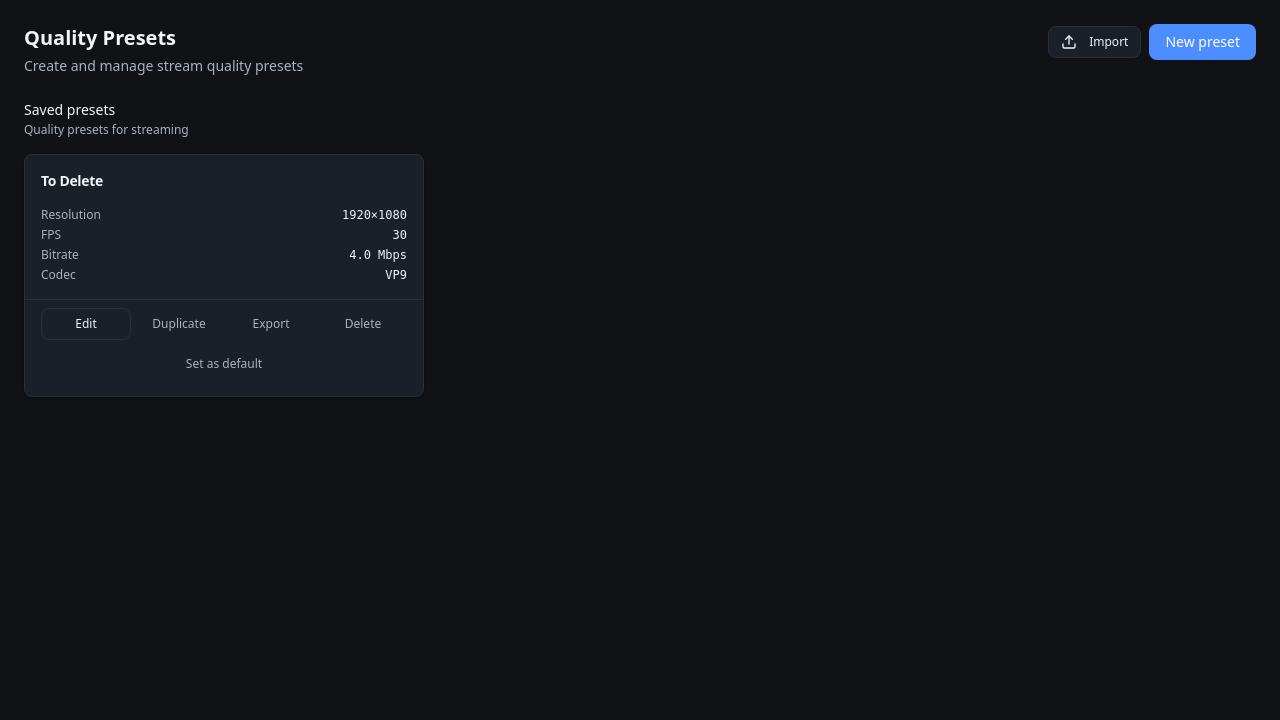
Test: QualityPresetsPage interactions › cancels delete and closes dialog
Check: the text "To Delete" is shown, box [41,171,103,191]
# Click Delete
Click the button "Delete". click: coordinates (363, 324)
box: [319,308,407,340]
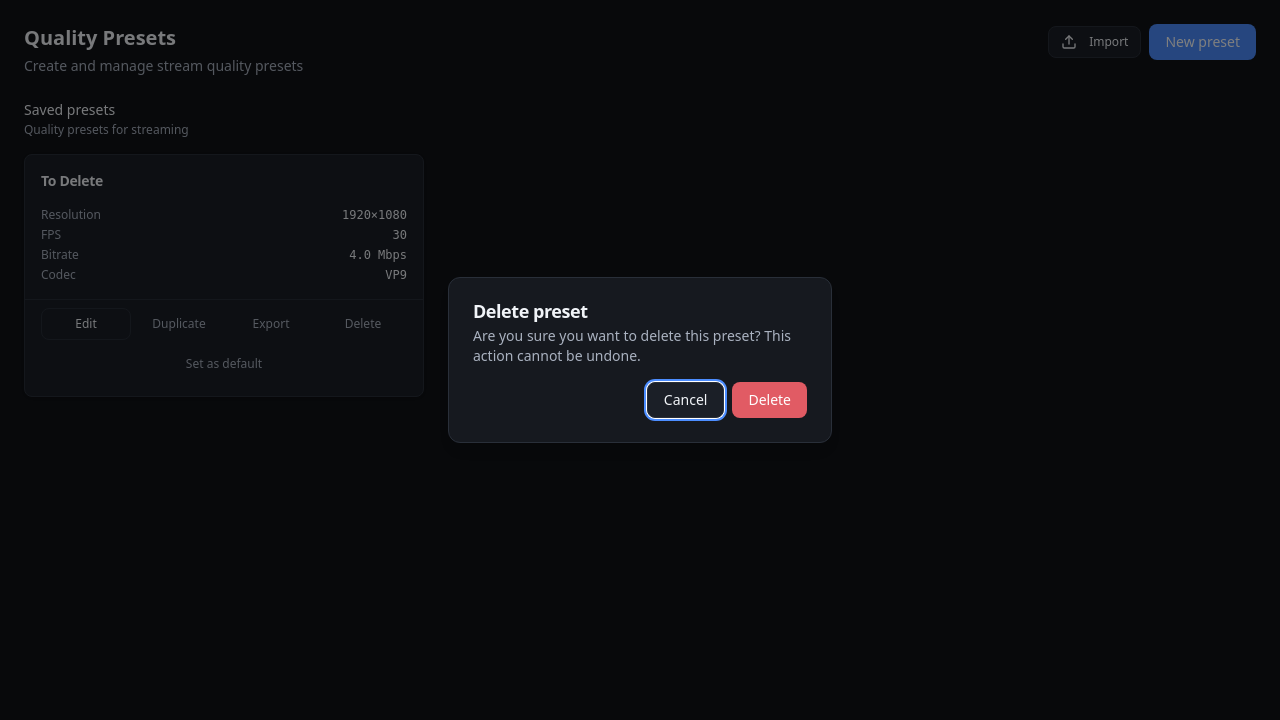
Check: the text "Are you sure" is shown, box [473,326,791,365]
Click the button "Cancel". click: coordinates (686, 400)
box: [647,382,724,418]
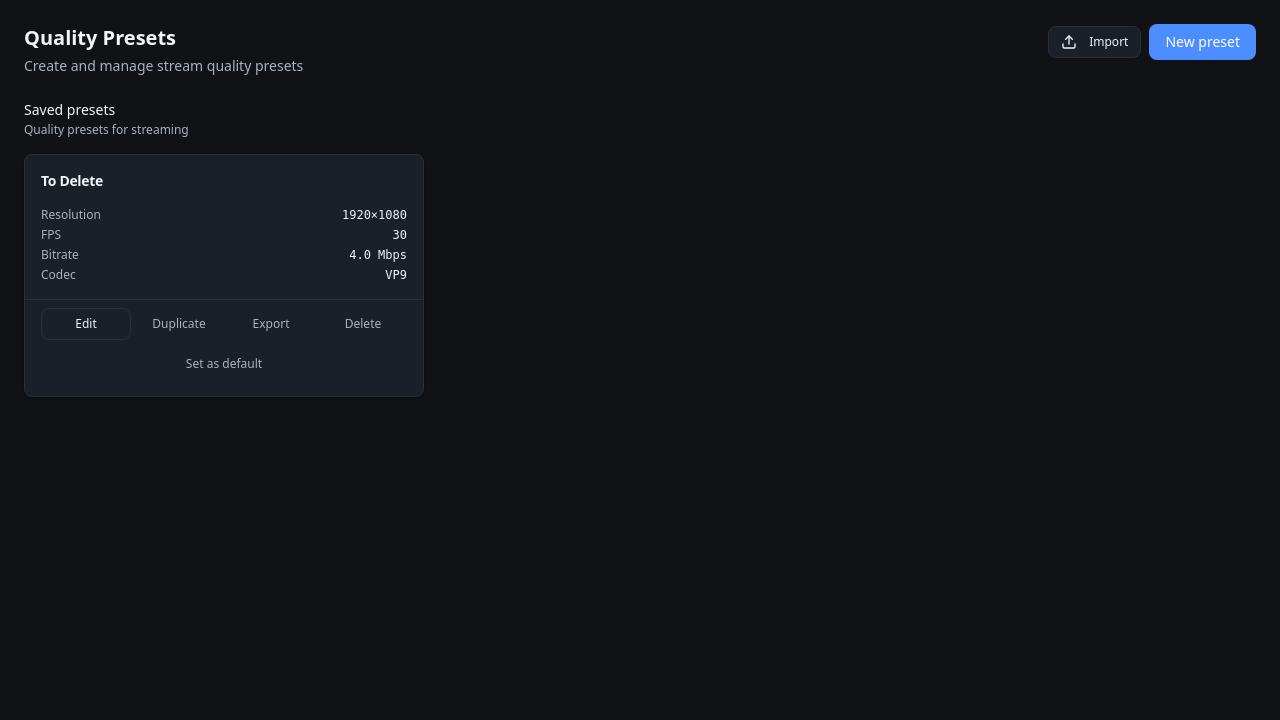
Check: the text "Are you sure" is gone
